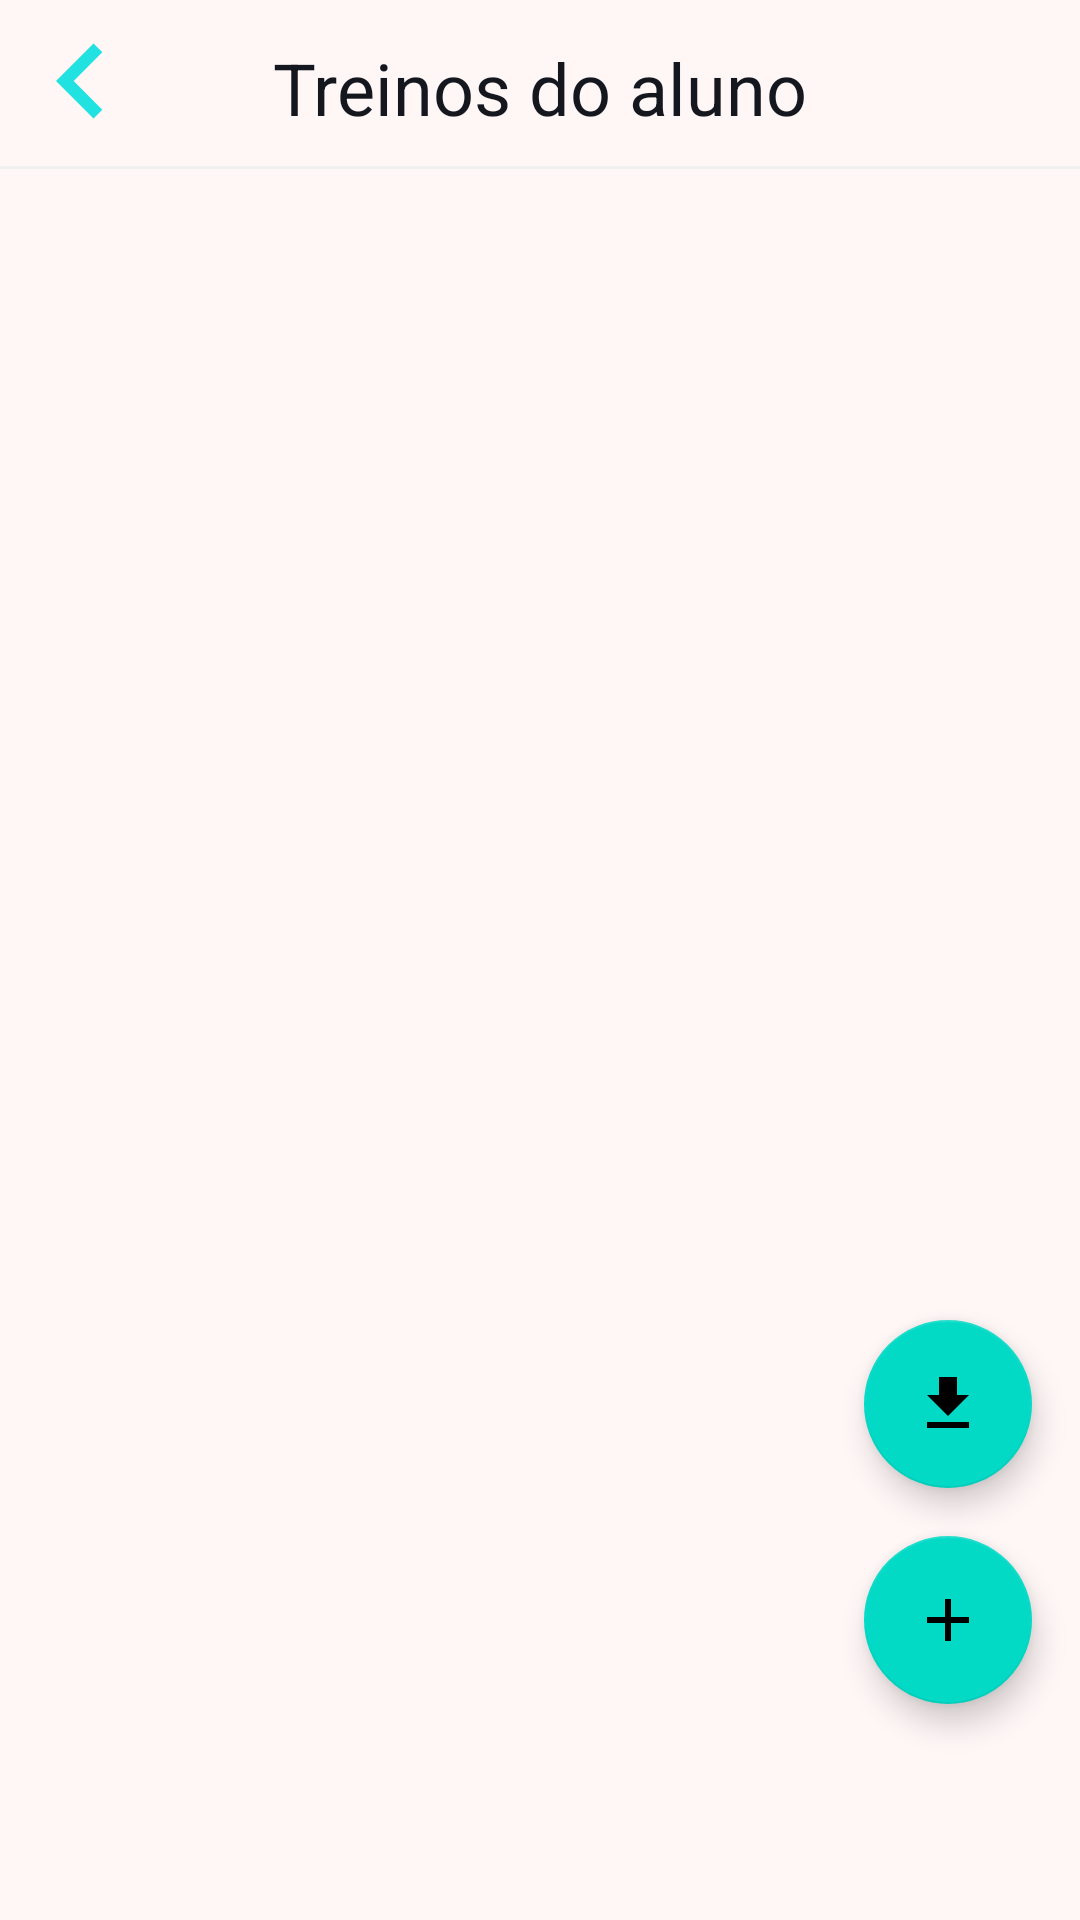

Icon bounding boxes for this 1080w x 1920h phone screenshot, format (x1, y1, x2, y2):
add: (864, 1536, 1032, 1704)
download: (864, 1320, 1032, 1488)
